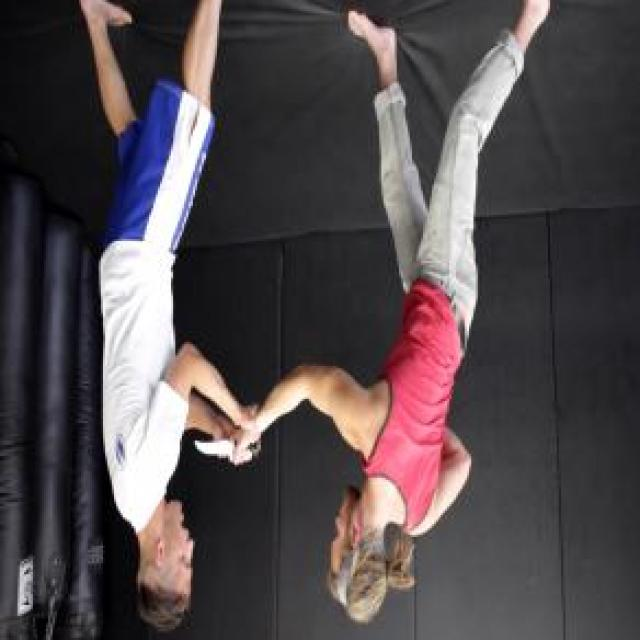knife: (189, 432, 263, 473)
